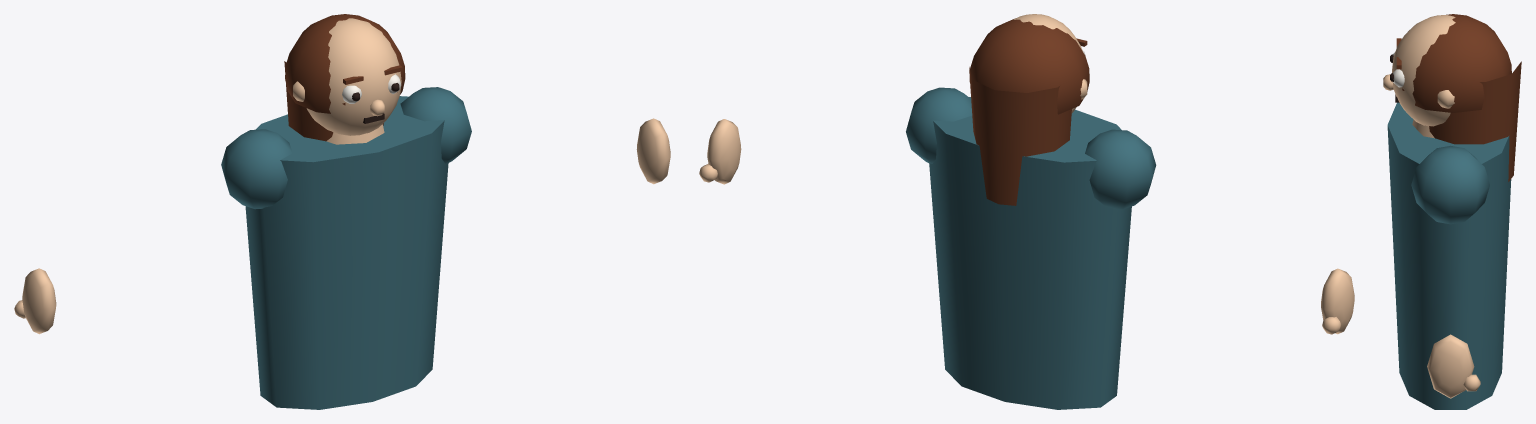
Rendered from avatar-teal.glb.
3 renders of one model, left to right at view 1: azimuth 30°, elevation 25°; view 2: azimuth 150°, elevation 25°; view 3: azimuth 270°, elevation 25°, orthographic. The views are drawn at different scales.
Parts seen in each view (by area): view 1: Torso, Skull, ShoulderR, Hair, ShoulderL, HandL, HandR, HairFall; view 2: Torso, HairFall, Hair, ShoulderR, ShoulderL, HandL, HandR; view 3: Torso, Hair, ShoulderL, HairFall, Skull, HandL, EarL, HandL_Thumb, Collar, EyeL.
Boxes of the visible parts, x1,y1,x2,y2 form: Torso: (245,96,448,409); Skull: (306,18,401,135); ShoulderR: (221,129,292,209); Hair: (285,14,405,113); ShoulderL: (400,87,471,163); HandL: (636,118,670,184); HandR: (22,268,56,334); HairFall: (284,61,383,141); Torso: (929,97,1131,409); HairFall: (969,67,1071,205); Hair: (969,18,1089,114); ShoulderR: (1085,129,1156,209); ShoulderL: (906,87,972,163); HandL: (707,119,741,184); HandR: (1321,268,1354,334); Torso: (1387,102,1511,409); Hair: (1402,14,1511,112); ShoulderL: (1411,145,1489,224); HairFall: (1429,61,1521,181); Skull: (1392,15,1455,126); HandL: (1427,334,1474,398); EarL: (1437,90,1454,108); HandL_Thumb: (1463,374,1480,391); Collar: (1412,119,1434,138); EyeL: (1393,69,1404,87).
Size of the model in its own units: 1.37 by 0.7424 by 0.2632.
